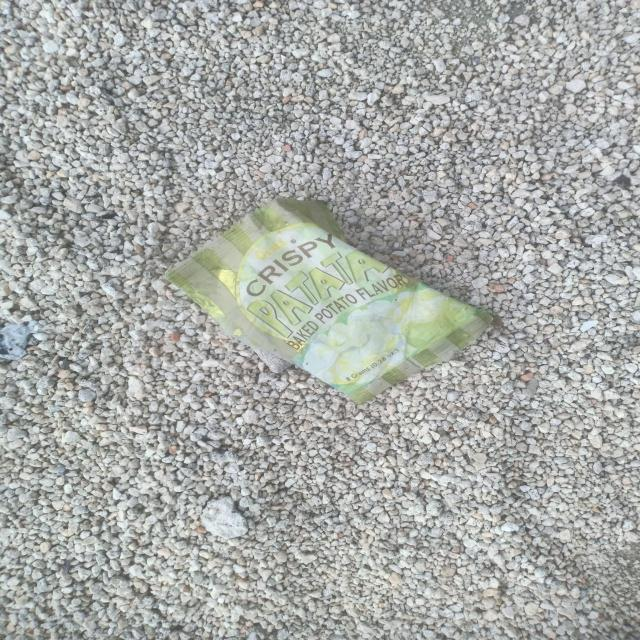plastic_waste: (163, 199, 497, 408)
